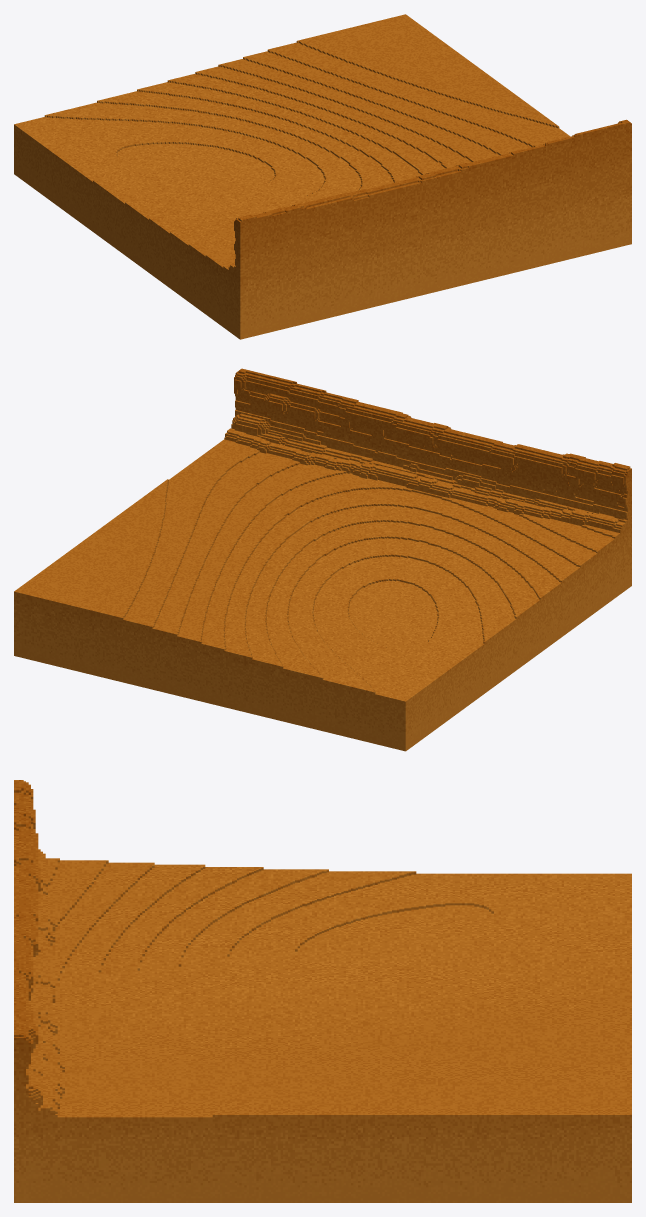
File: Marte-13.obj
3 renders of one model, top to bottom at view 1: azimuth 30°, elevation 25°; view 2: azimuth 150°, elevation 25°; view 3: azimuth 270°, elevation 25°, orthographic. The views are drawn at different scales.
Bounding box in the file's own units: 25.5 × 7.6 × 25.5.
1 material, 1 textured.
